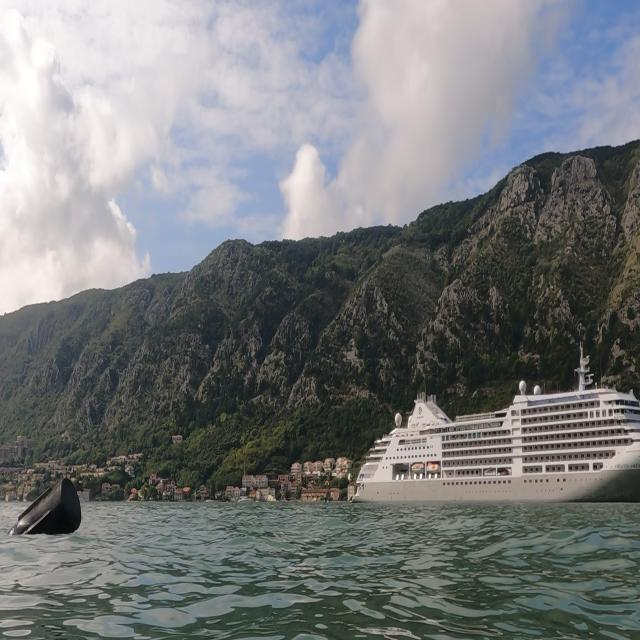boat: (348, 341, 638, 507)
buoy: (1, 460, 90, 554)
